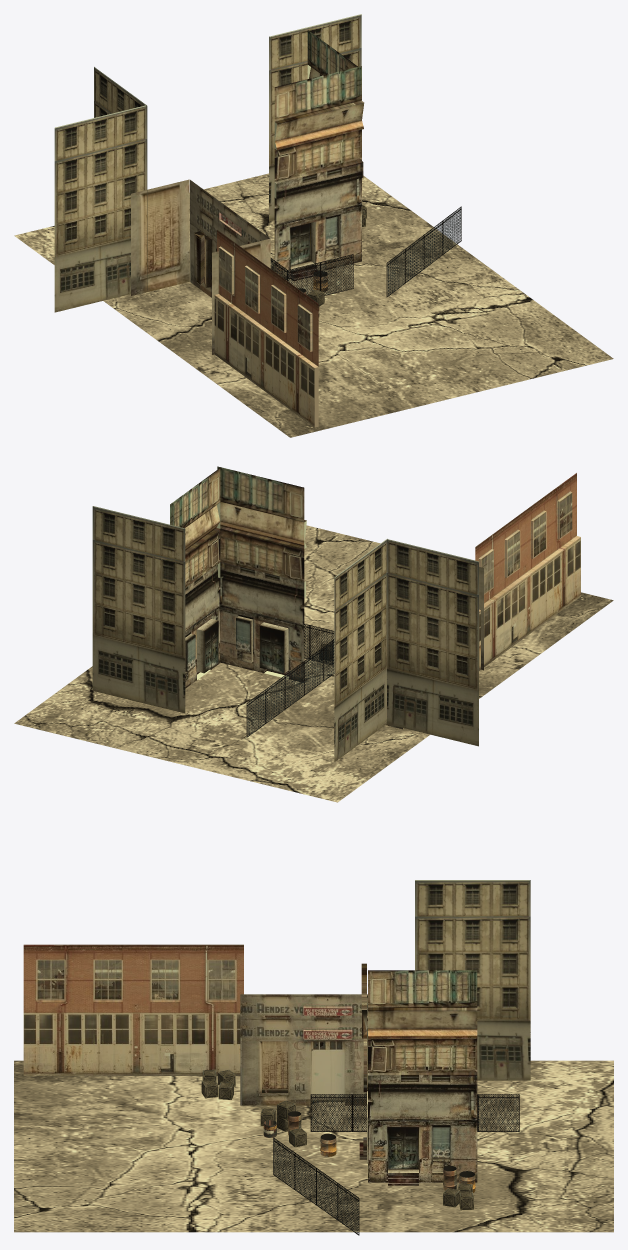
File: bst6.glb
3 renders of one model, top to bottom at view 1: azimuth 30°, elevation 25°; view 2: azimuth 150°, elevation 25°; view 3: azimuth 270°, elevation 25°, orthographic. The views are drawn at different scales.
Parts seen in each view (by area): view 1: object 1, object 3, Cylinder_1_0; view 2: object 3, object 1, Cylinder_1_0; view 3: object 1, object 3, Cylinder_1_0.
Part boxes in pixels (x1,y1,x2,y2): object 1: (14, 173, 613, 437); object 3: (54, 14, 361, 427); Cylinder_1_0: (131, 30, 364, 354); object 3: (92, 473, 580, 761); object 1: (14, 525, 613, 802); Cylinder_1_0: (170, 466, 483, 729); object 1: (14, 1060, 613, 1235); object 3: (23, 880, 530, 1080); Cylinder_1_0: (240, 963, 477, 1192).
Bounding box in the file's own units: 12.2 × 6.04 × 15.34.
3 materials, 3 textured.
